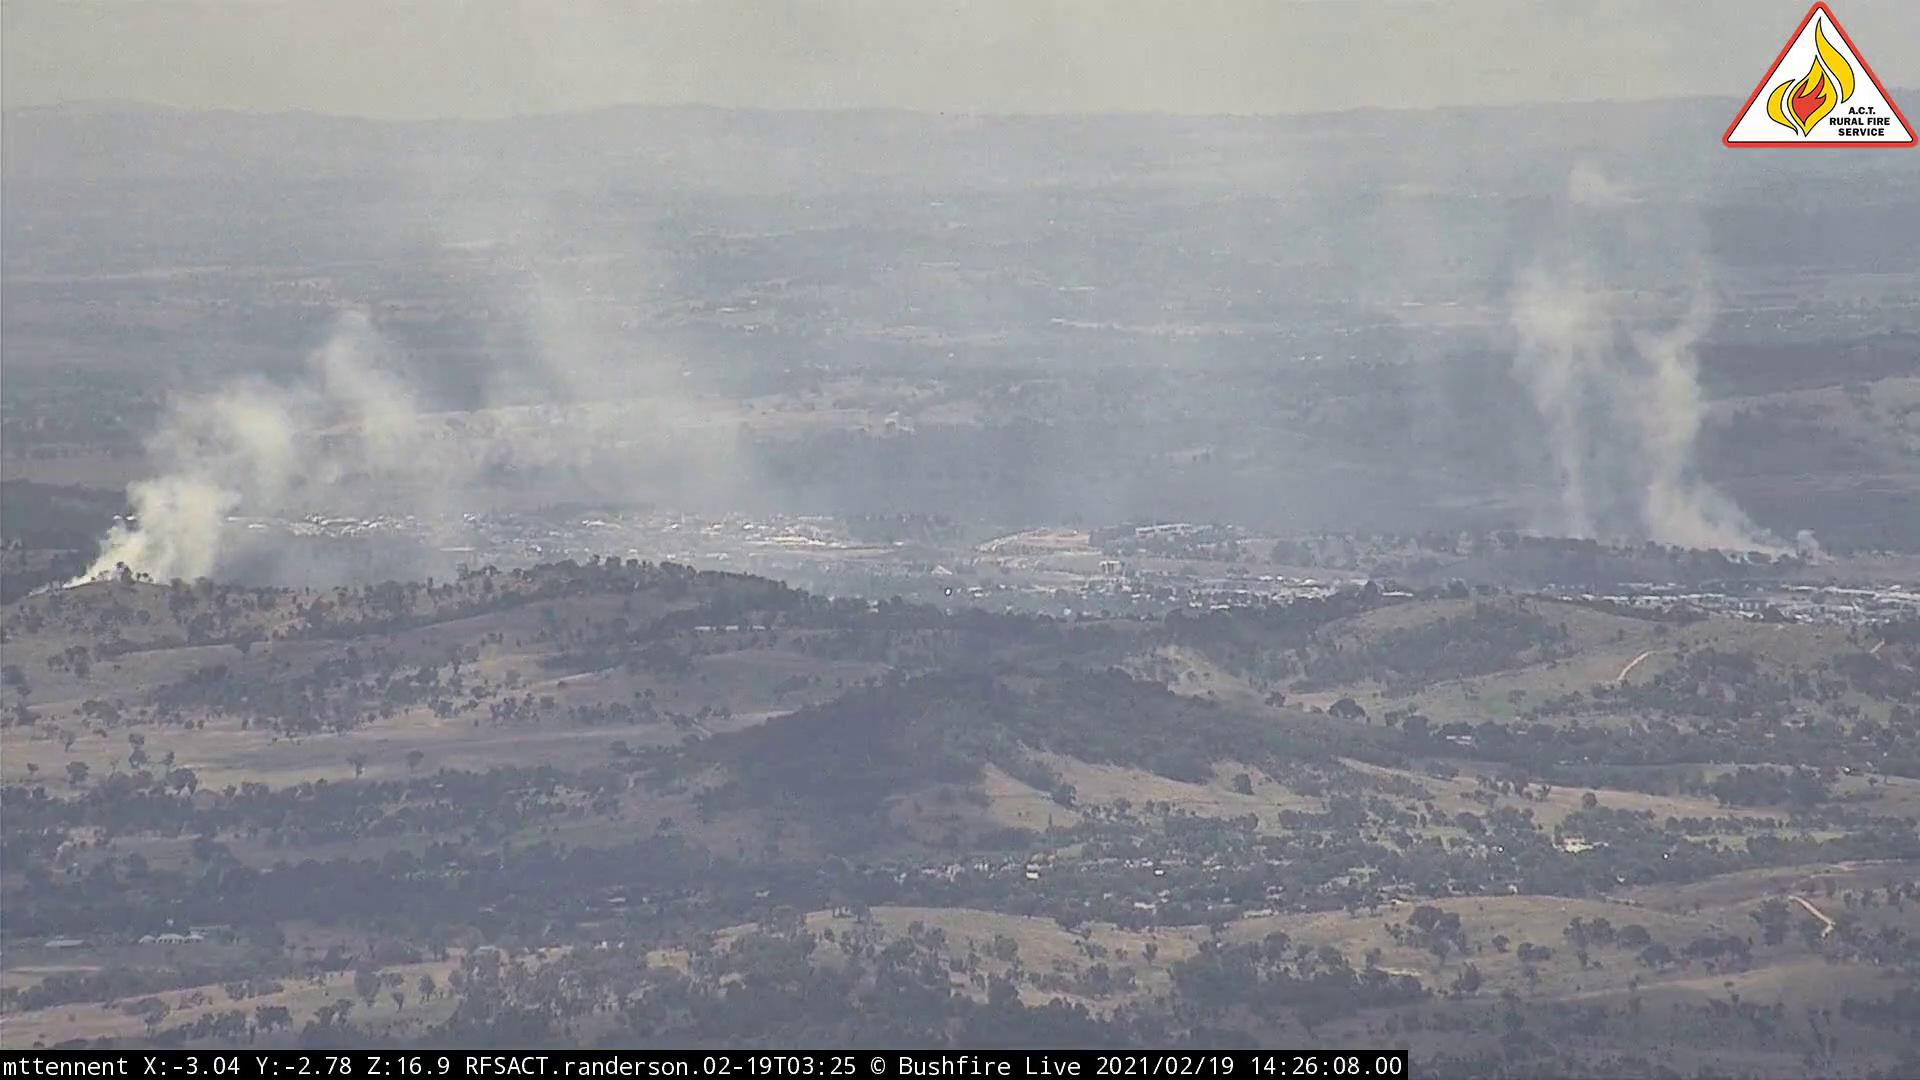Smoke: (55, 301, 524, 597), (1484, 179, 1820, 564)
